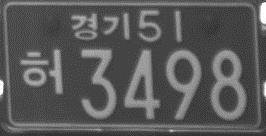1: (171, 6, 187, 43)
3: (78, 47, 118, 119)
4: (120, 48, 163, 121)
5: (138, 8, 162, 42)
8: (208, 48, 250, 123)
9: (165, 47, 203, 122)
경기_O: (69, 11, 131, 42)
허: (18, 48, 66, 97)
